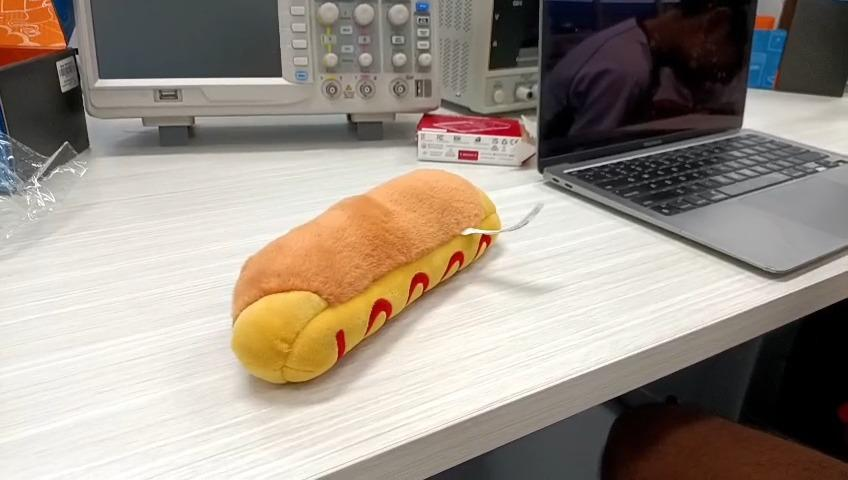hotdog: (232, 169, 502, 383)
